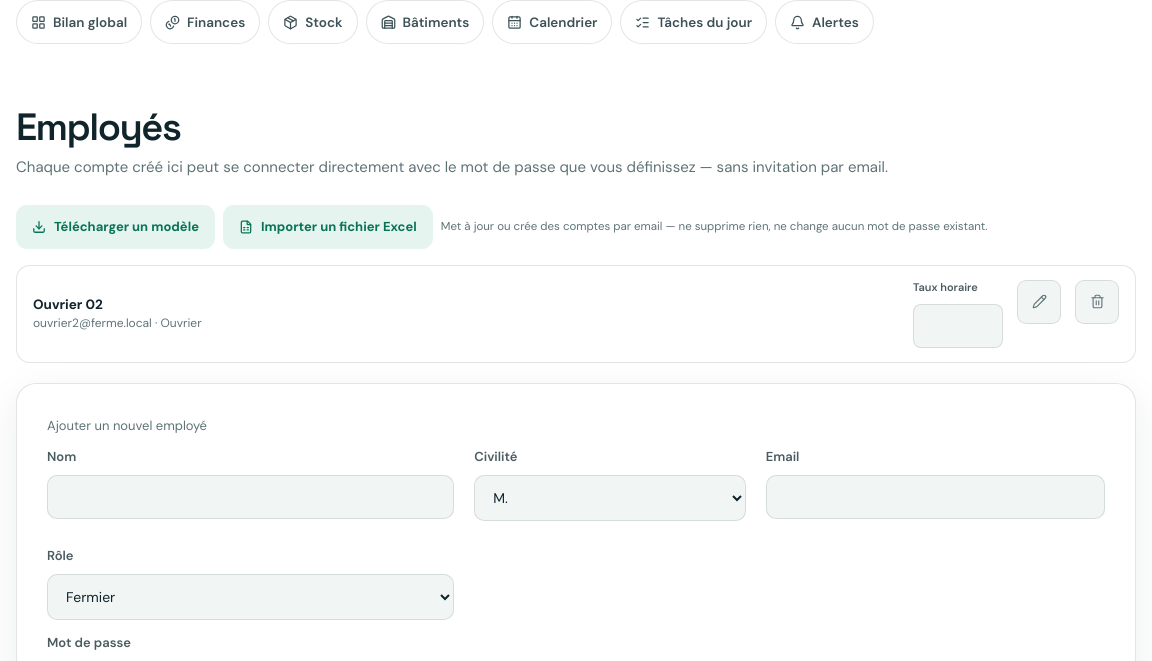
EmployeesPage — per-row actions › a saved hourly rate is confirmed by naming the employee and the amount
This screenshot has width=1152, height=661.
Type "750" into the number field labelled "Taux horaire".
click(958, 326); type("750")  # box [913,304,1003,348]
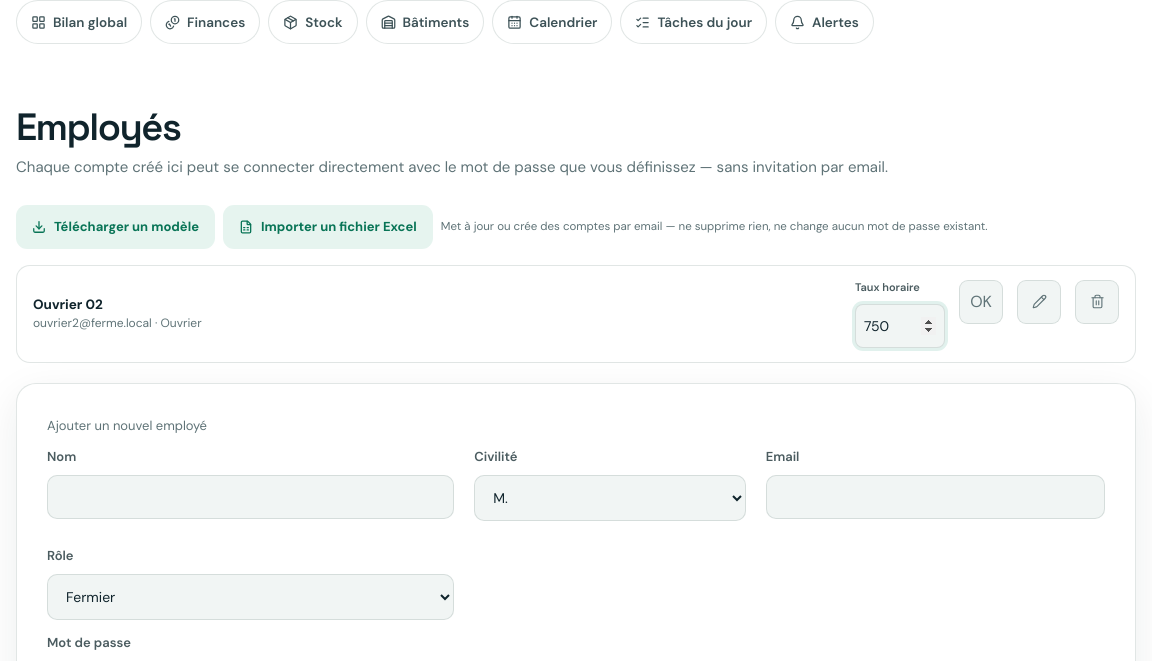
Click the button titled "Enregistrer le taux".
click(981, 302)  # box [959,280,1003,324]
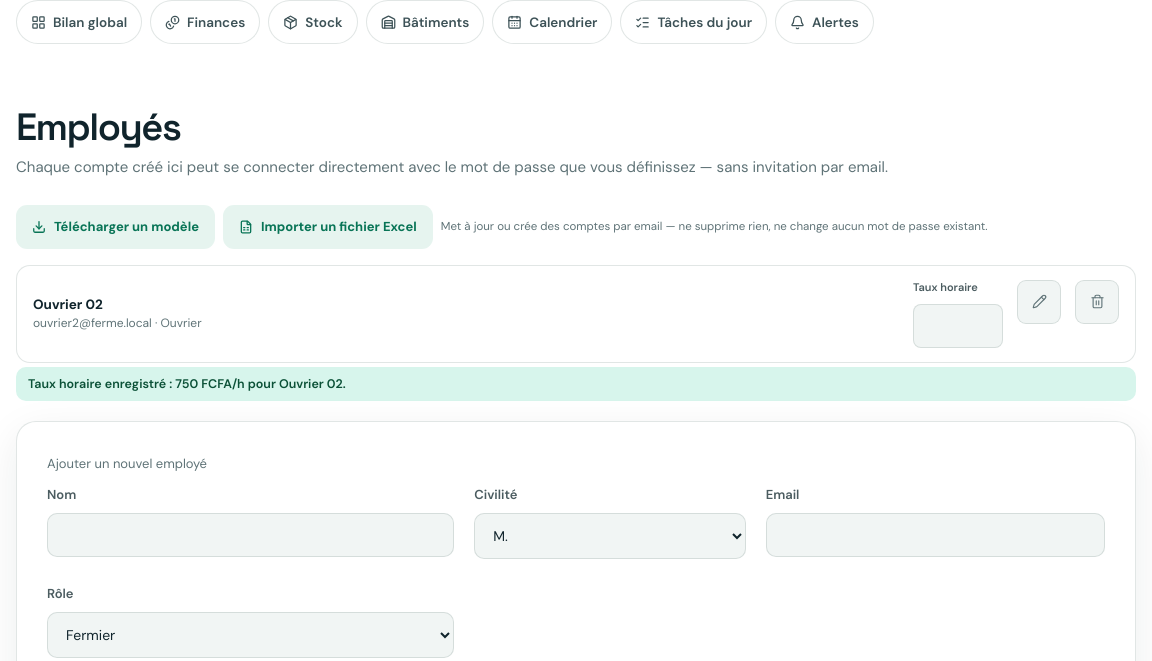
Expected: the message reads "Taux horaire enregistré : 750 FCFA/h pour Ouvrier 02.", [28,376,346,392]
